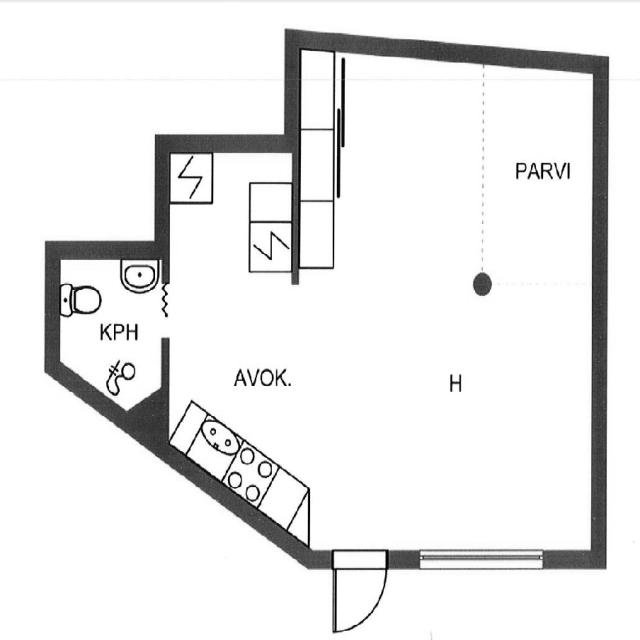door: (326, 549, 394, 637)
window: (417, 543, 551, 574)
zone: (300, 58, 599, 556), (165, 143, 311, 546), (49, 246, 166, 416)
